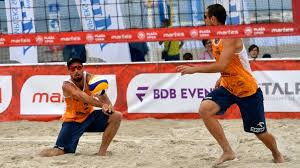ball: (87, 74, 109, 96)
